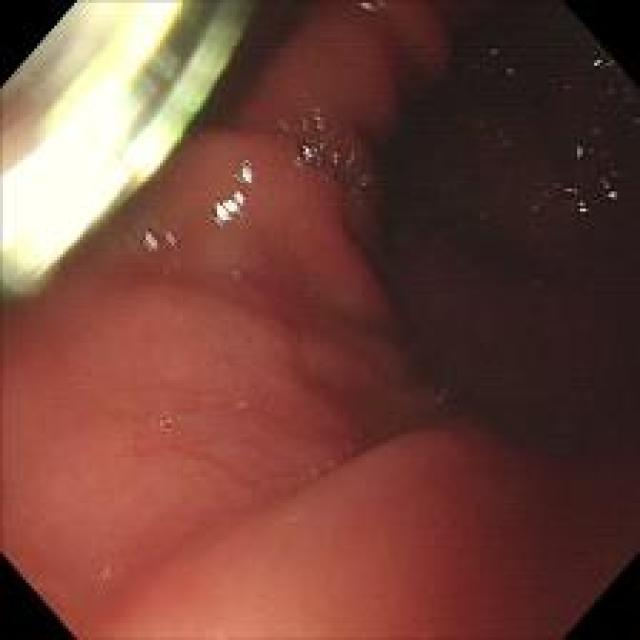bubbles: (150, 409, 179, 432), (299, 285, 322, 308), (94, 561, 115, 582), (305, 465, 328, 481), (235, 399, 252, 414)
color misalignment: (1, 5, 255, 290), (530, 115, 624, 230), (291, 102, 384, 204), (209, 155, 256, 231), (135, 212, 191, 259), (590, 55, 616, 71), (486, 46, 502, 59), (502, 66, 515, 75)
contrast: (335, 16, 624, 476)
specularity: (2, 98, 171, 281), (76, 4, 175, 104), (210, 156, 259, 230), (301, 145, 320, 165)
